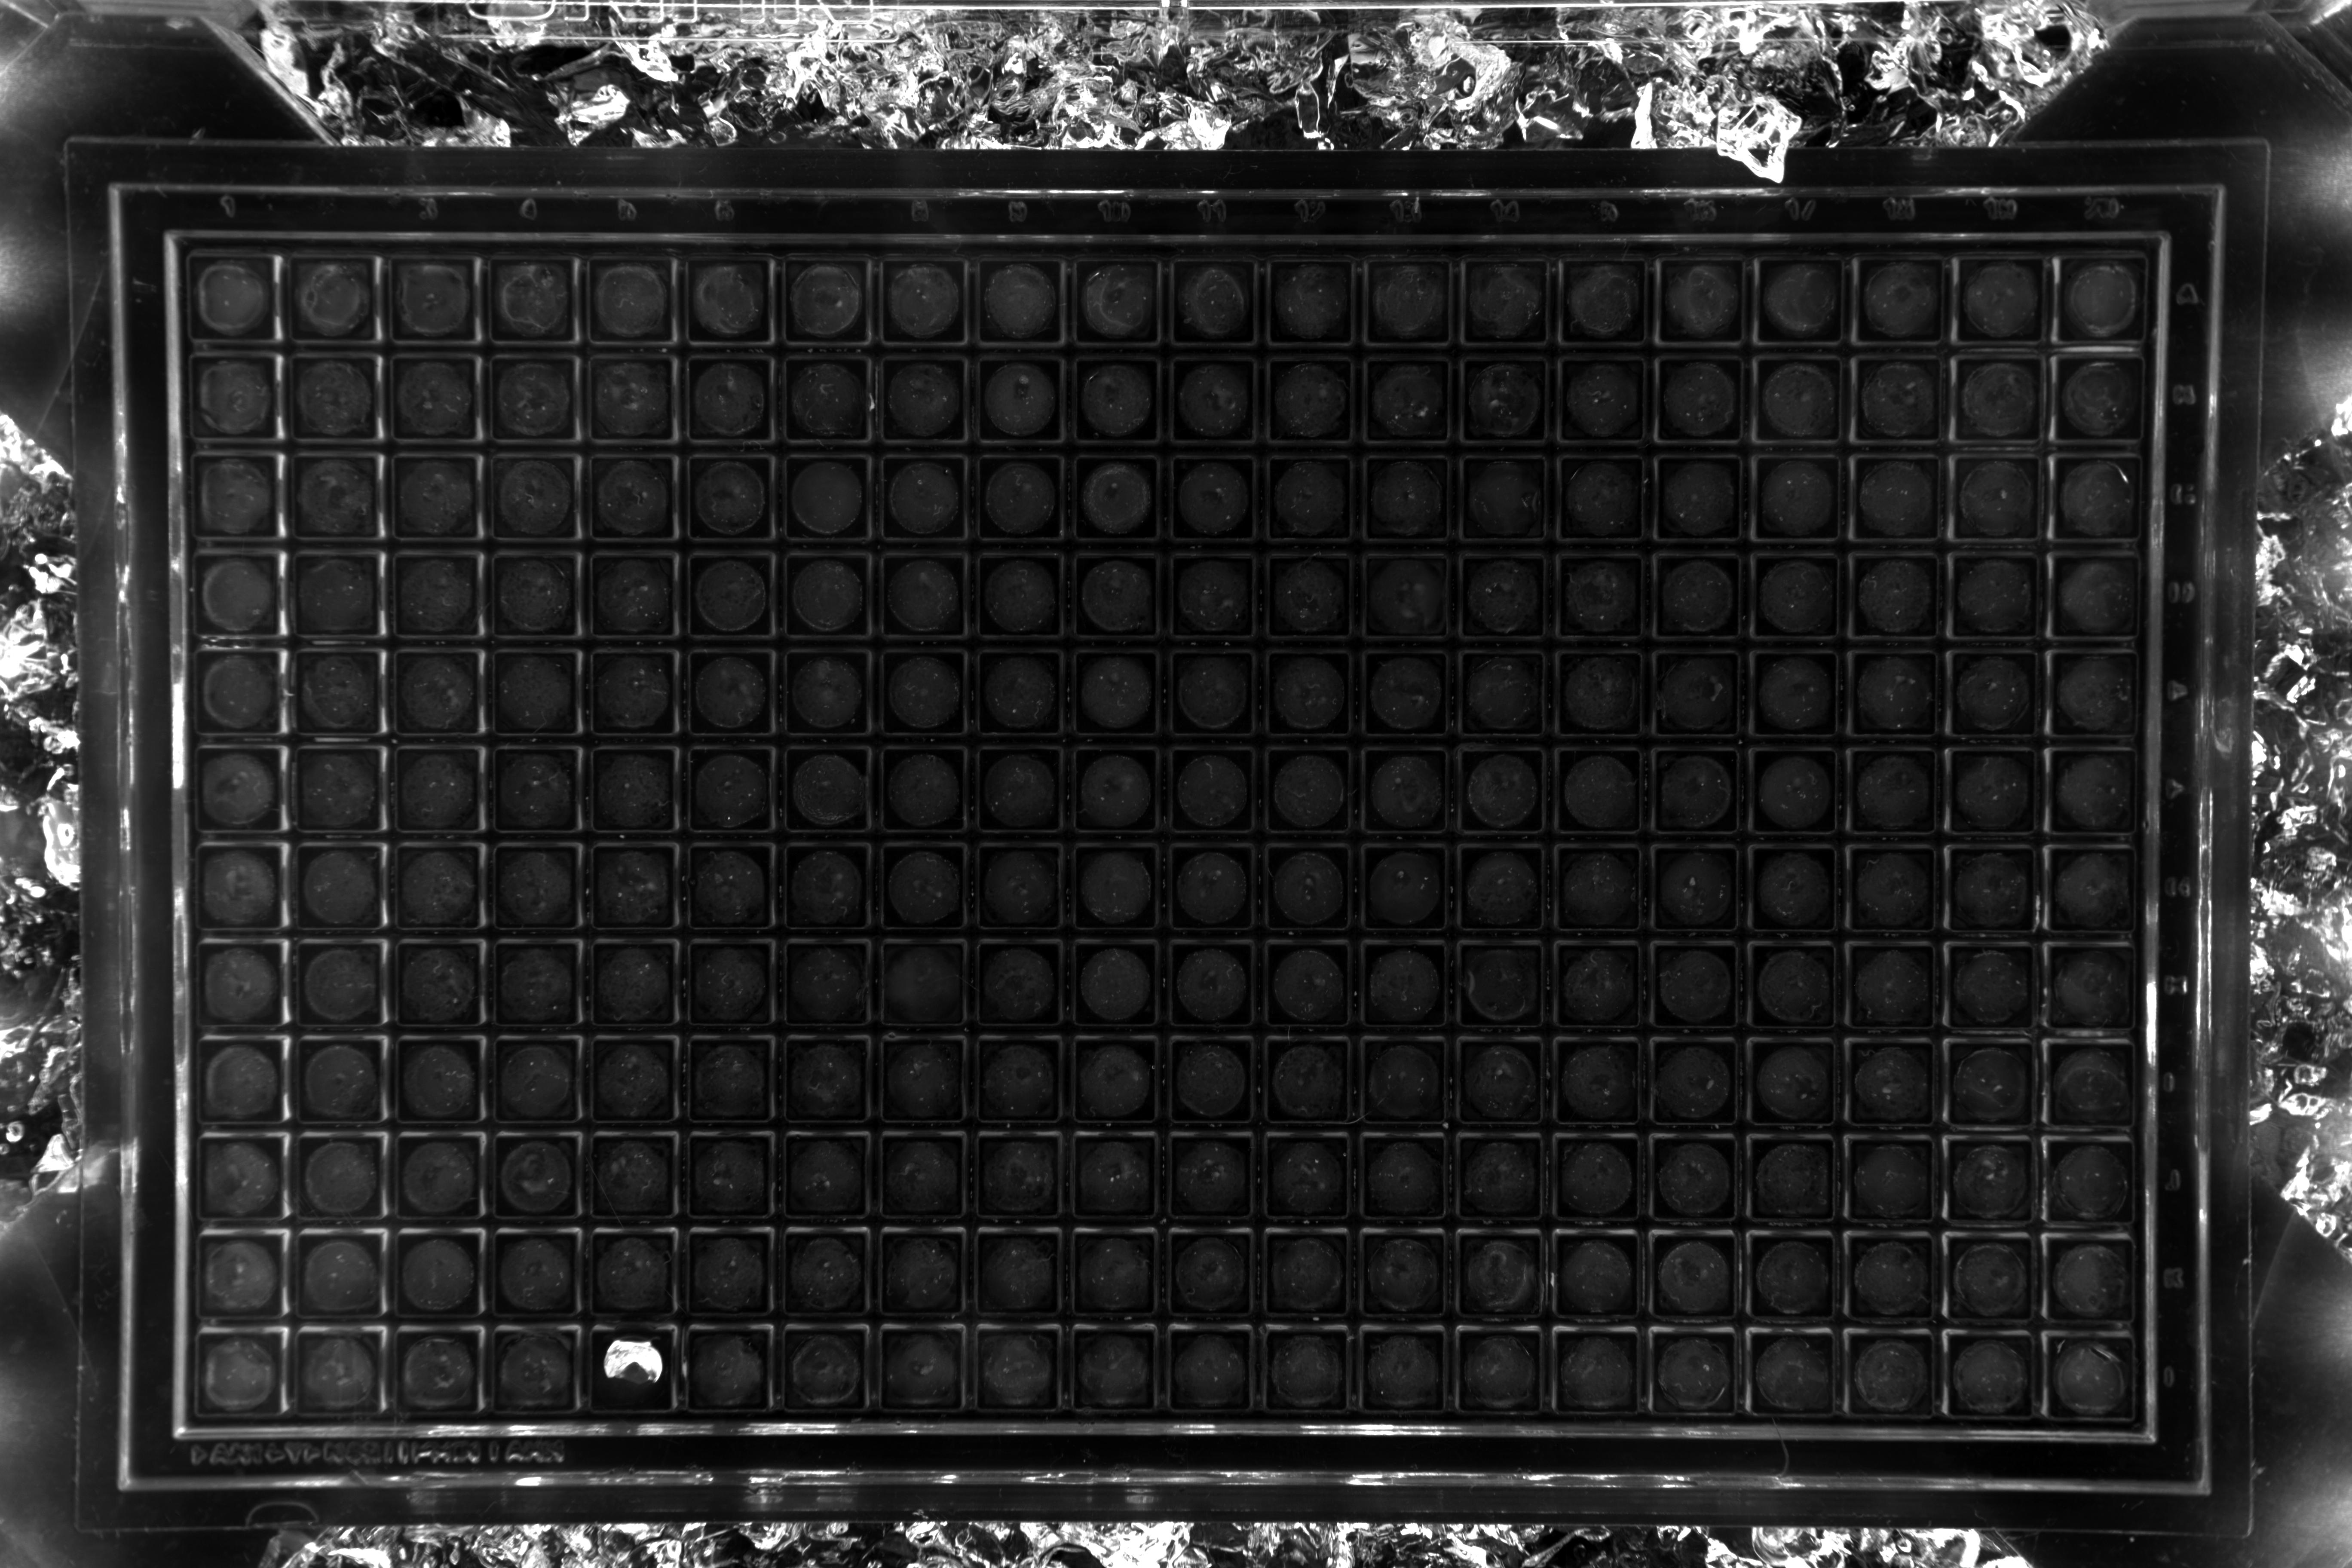WM_well: (982, 534, 1071, 621), (1666, 135, 1755, 222), (2063, 128, 2152, 215), (294, 338, 381, 425), (296, 436, 383, 523), (593, 632, 681, 719), (595, 730, 682, 817), (787, 534, 875, 621), (882, 241, 969, 329), (887, 1018, 975, 1106), (983, 1113, 1071, 1200), (1176, 240, 1263, 327), (1368, 1113, 1456, 1200), (1368, 920, 1456, 1008), (1370, 822, 1458, 910), (1466, 630, 1554, 717), (1470, 138, 1557, 226), (1566, 432, 1654, 520), (1661, 1017, 1748, 1104), (1664, 530, 1752, 618), (1764, 430, 1851, 518), (1862, 528, 1949, 616), (1865, 131, 1953, 219), (2054, 1213, 2142, 1300)
